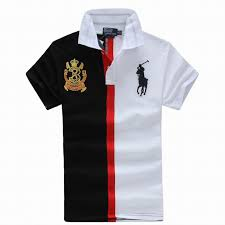S_polo shirt: (28, 10, 199, 222)
